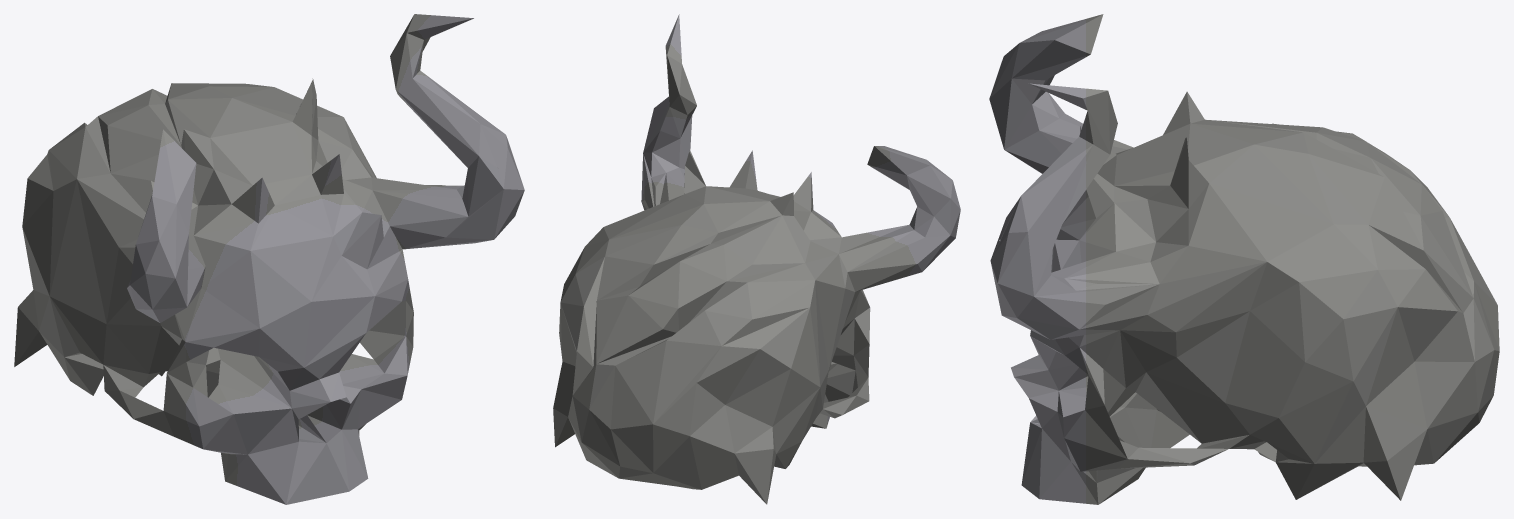
The model's file is YN_Skull.fbx.
3 renders of one model, left to right at view 1: azimuth 30°, elevation 25°; view 2: azimuth 150°, elevation 25°; view 3: azimuth 270°, elevation 25°, orthographic. The views are drawn at different scales.
Visible parts, largest first — view 1: YN_Skull; view 2: YN_Skull; view 3: YN_Skull.
Part boxes in pixels (<box>): YN_Skull: <box>14,14,524,504</box>; YN_Skull: <box>553,14,960,504</box>; YN_Skull: <box>989,14,1499,504</box>.
Size of the model in its own units: 9.87 by 10.88 by 10.72.
